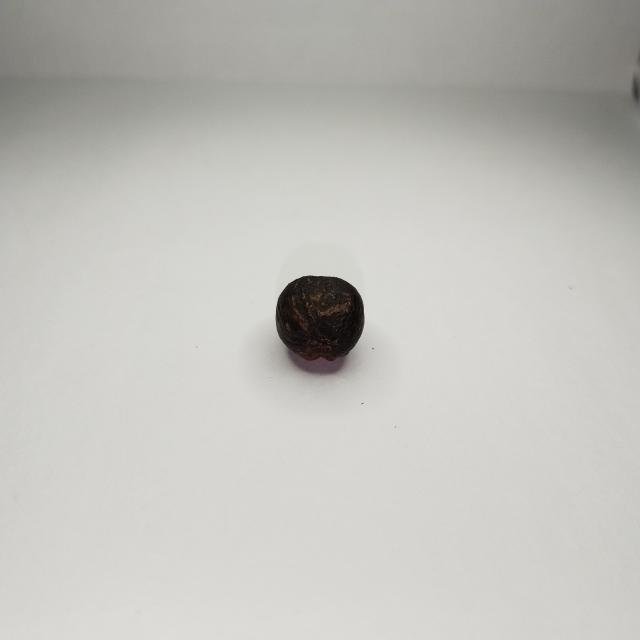Danado: (275, 277, 363, 361)
